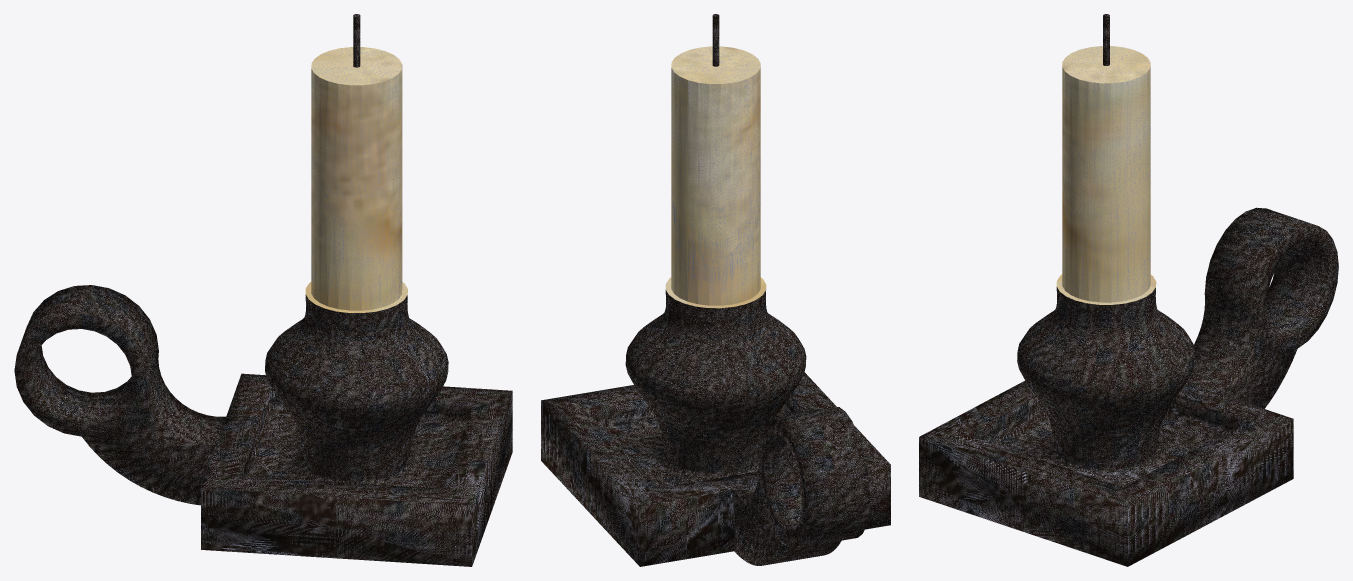
Rendered from ACC_CANDLE.fbx.
3 views of the same model, side by side, from view 1: azimuth 30°, elevation 25°; view 2: azimuth 150°, elevation 25°; view 3: azimuth 270°, elevation 25° (orthographic). The views are drawn at different scales.
Visible parts, largest first — view 1: Group2, Group3; view 2: Group2, Group3; view 3: Group2, Group3.
Part boxes in pixels (bbox=[...]): Group2: bbox=[14, 285, 512, 566]; Group3: bbox=[305, 47, 407, 312]; Group2: bbox=[541, 290, 890, 566]; Group3: bbox=[665, 46, 766, 308]; Group2: bbox=[919, 207, 1338, 566]; Group3: bbox=[1056, 46, 1156, 304].
Bounding box in the file's own units: 8.06 × 8.98 × 7.23.
